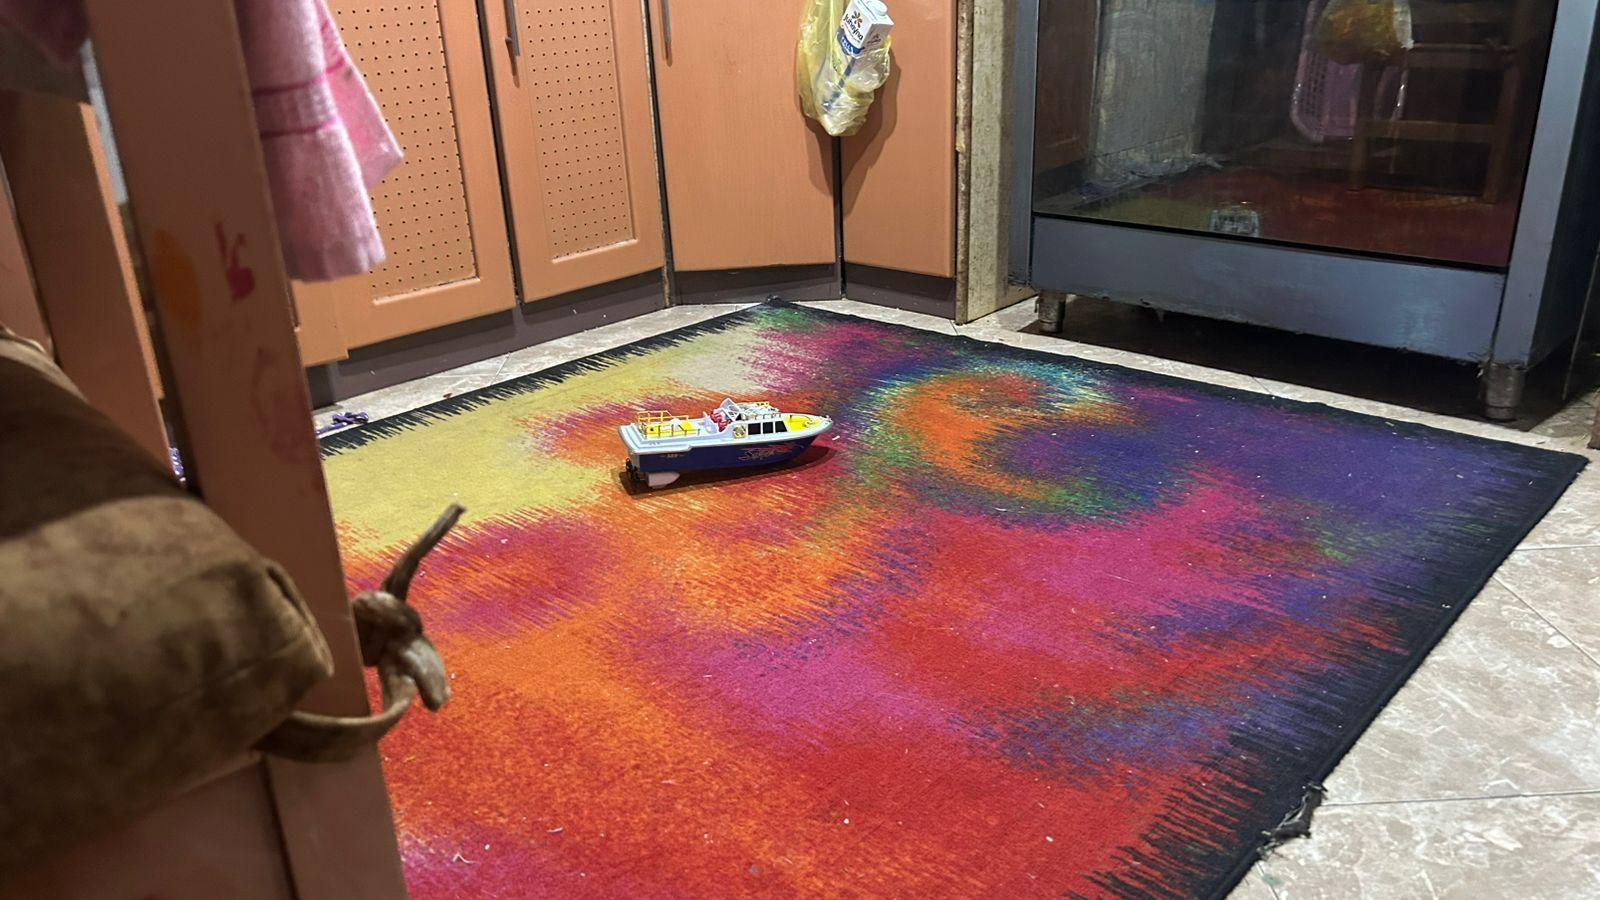Boat: (608, 389, 844, 495)
